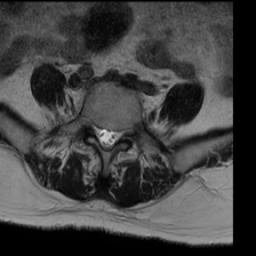CCS_normal: (102, 118, 110, 158)
LFS_normal: (119, 119, 126, 145)
LLS_normal: (110, 120, 119, 151)
RFS_normal: (87, 112, 94, 141)
RLS_normal: (94, 118, 102, 149)
